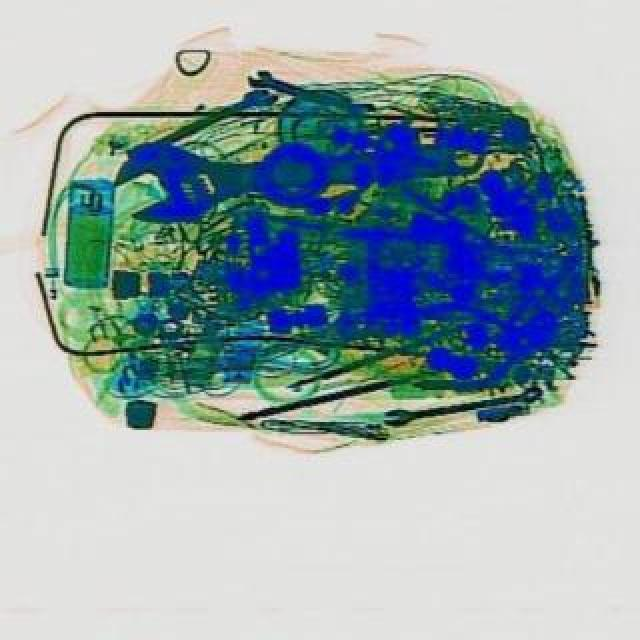scissors: (110, 108, 488, 228), (150, 82, 274, 148), (382, 382, 544, 426), (242, 64, 366, 118)
